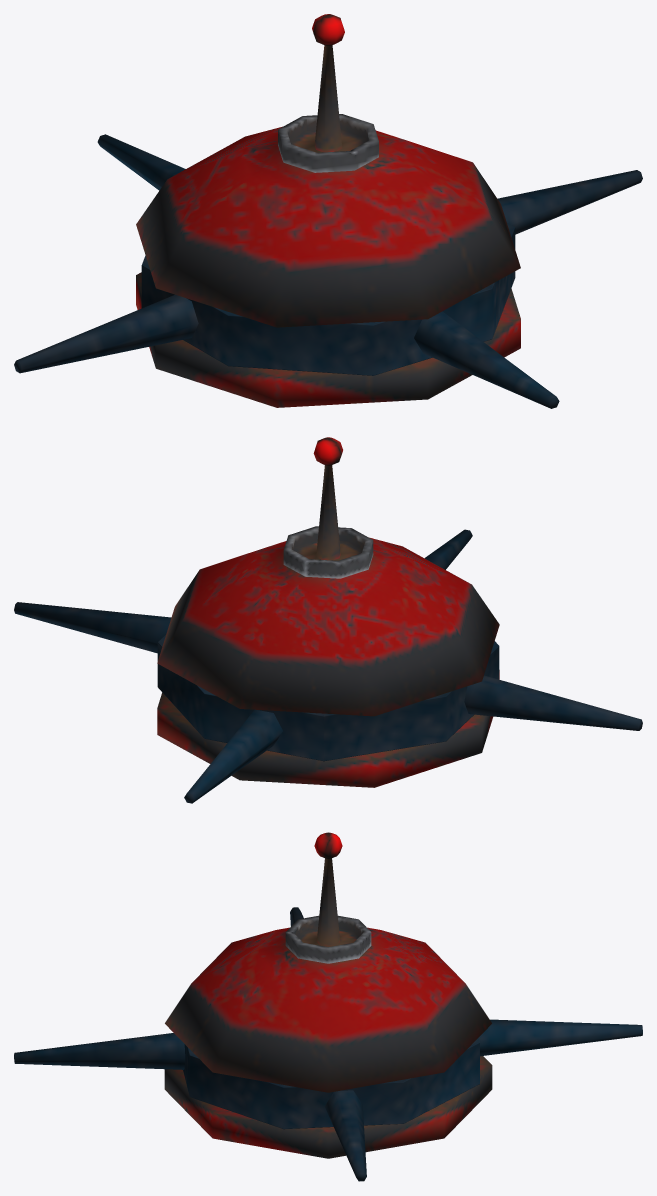
File: enemy.fbx
3 views of the same model, one above another, from view 1: azimuth 30°, elevation 25°; view 2: azimuth 150°, elevation 25°; view 3: azimuth 270°, elevation 25° (orthographic). The views are drawn at different scales.
Parts seen in each view (by area): view 1: enemy_body_low; view 2: enemy_body_low; view 3: enemy_body_low.
Boxes of the visible parts, left/top/right/bottom form: enemy_body_low: left=14, top=14, right=642, bottom=408; enemy_body_low: left=14, top=437, right=642, bottom=803; enemy_body_low: left=14, top=832, right=642, bottom=1181.
Bounding box in the file's own units: 235 × 105 × 235.
